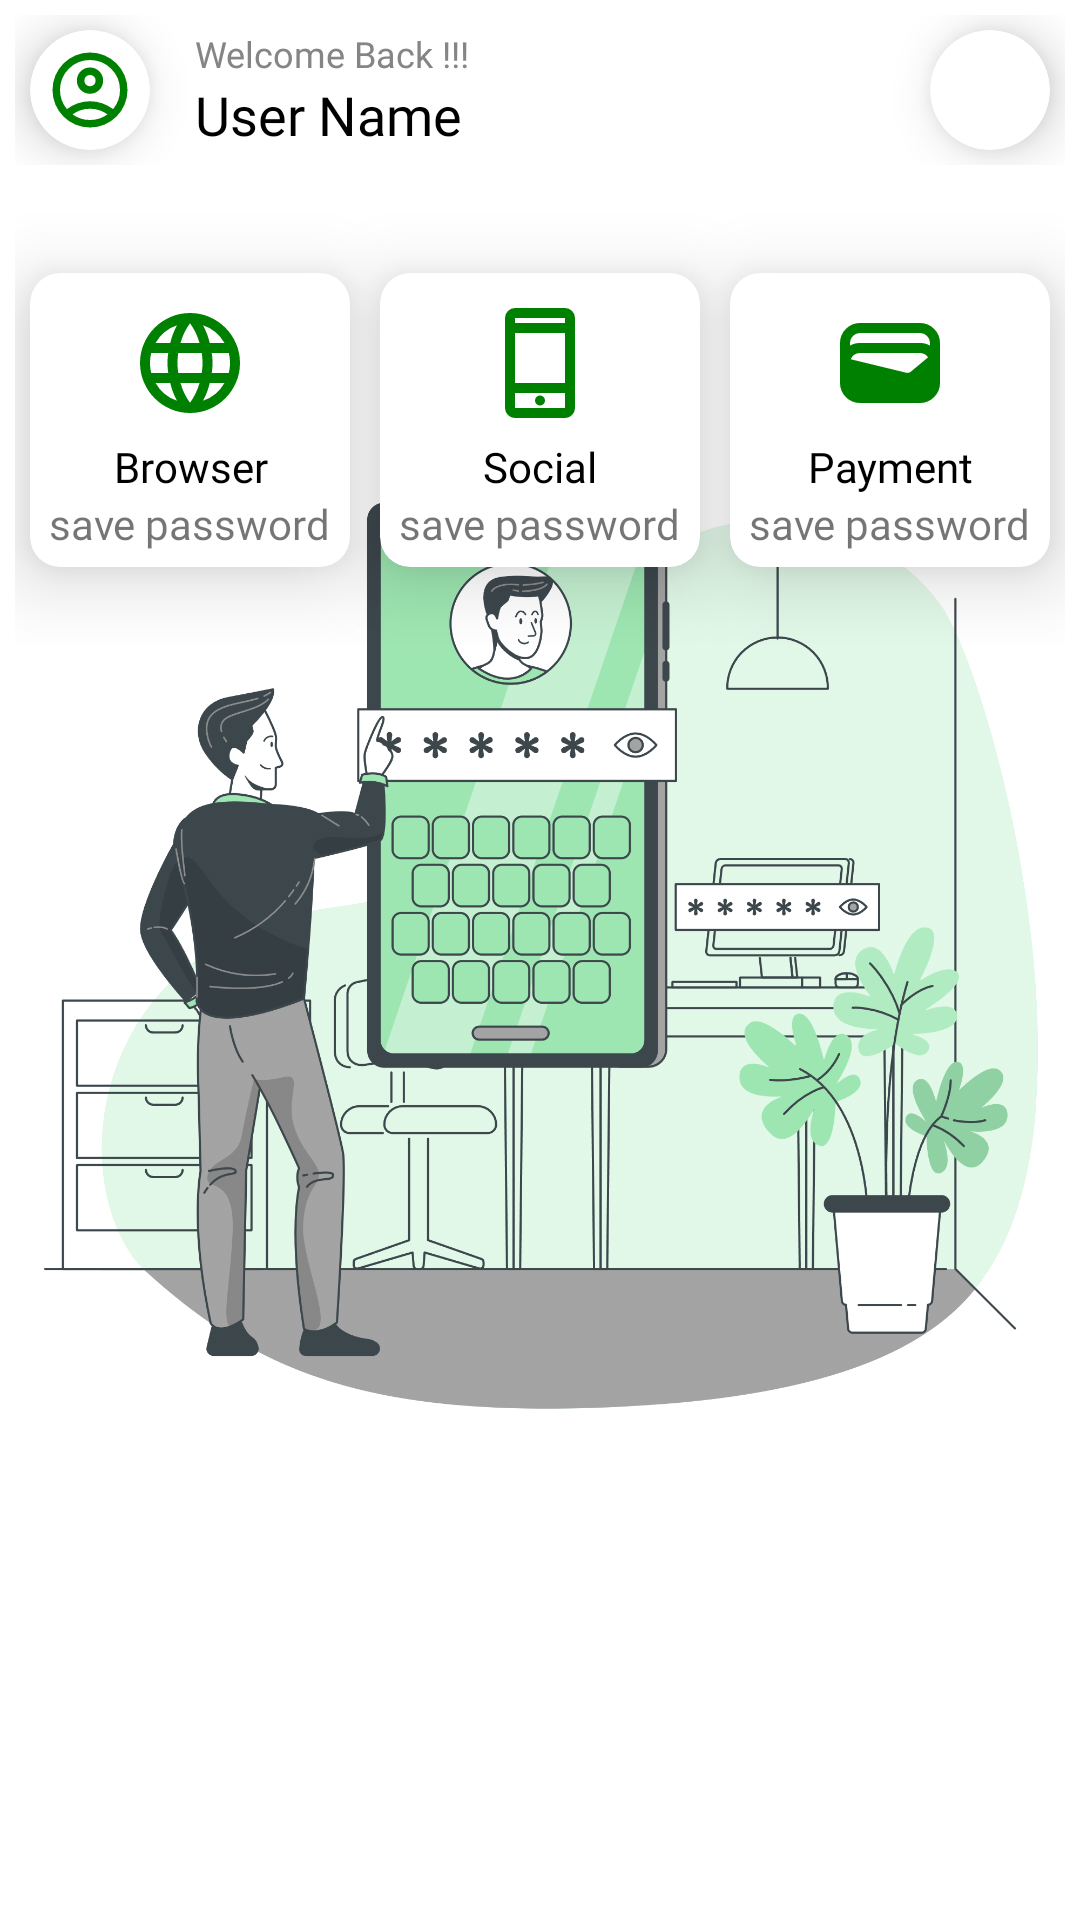

Locate icon controls on the screen. Image size 1080w x 1920h, boxes as (x1, y1, x2, y2).
person: (30, 30, 150, 150)
phone: (505, 308, 575, 418)
wallet: (840, 323, 940, 403)
website: (140, 313, 240, 413)
